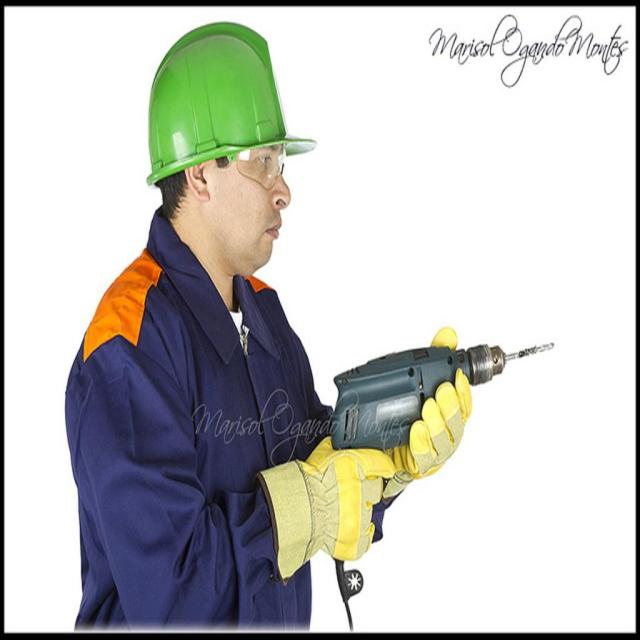Face: (233, 140, 295, 282)
